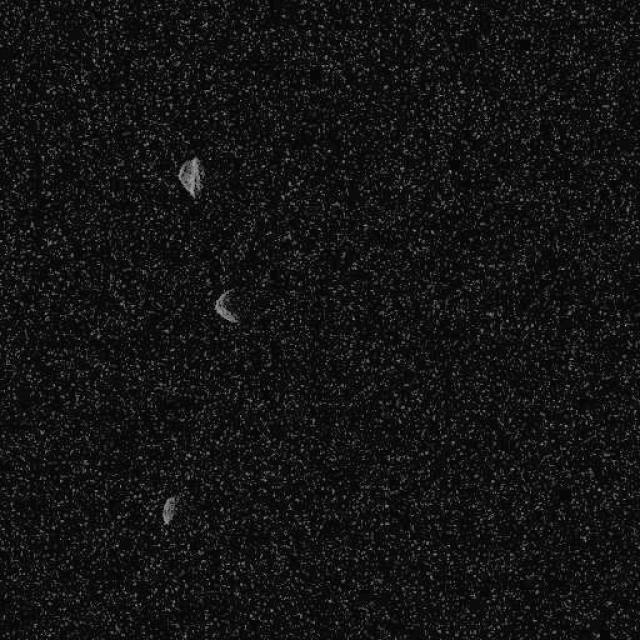D2: (176, 154, 204, 200), (212, 288, 238, 324), (160, 495, 178, 525)
